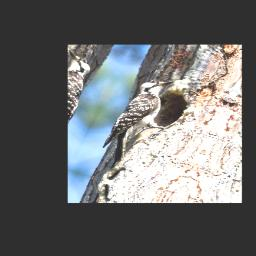Woodpecker: (88, 68, 188, 179)
